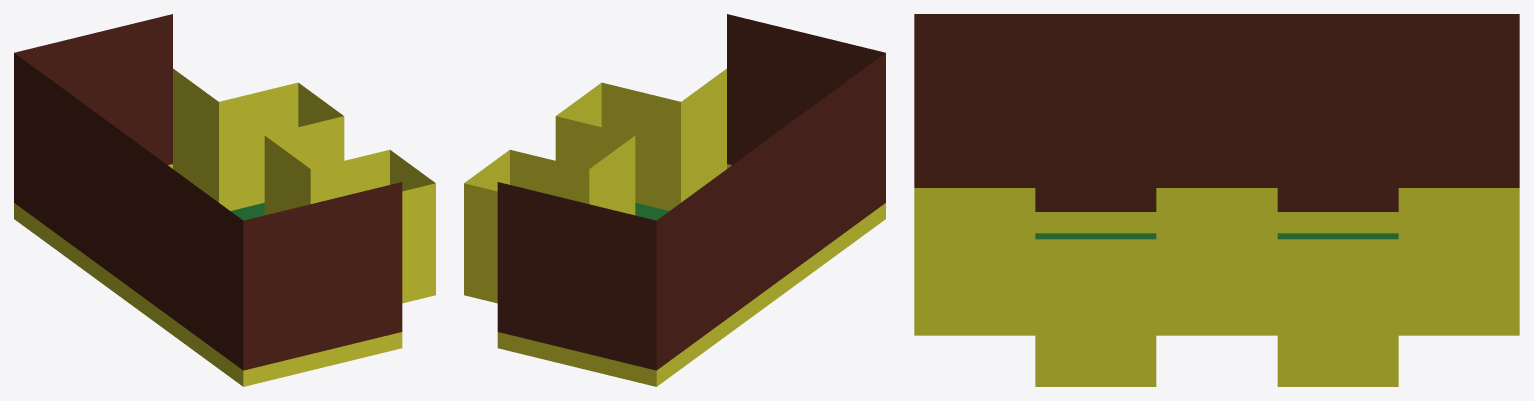
Rendered from room1.dae.
3 renders of one model, left to right at view 1: azimuth 30°, elevation 25°; view 2: azimuth 150°, elevation 25°; view 3: azimuth 270°, elevation 25°, orthographic. The views are drawn at different scales.
Parts seen in each view (by area): view 1: Cube.001, Cube.002; view 2: Cube.001, Cube.002; view 3: Cube.001, Cube.002.
Boxes of the visible parts, bbox=[...] form: Cube.001: bbox=[14, 14, 402, 386]; Cube.002: bbox=[173, 68, 435, 303]; Cube.001: bbox=[497, 14, 885, 386]; Cube.002: bbox=[464, 68, 726, 303]; Cube.001: bbox=[914, 14, 1519, 239]; Cube.002: bbox=[914, 188, 1519, 386].
Bounding box in the file's own units: 3 × 5 × 2.
